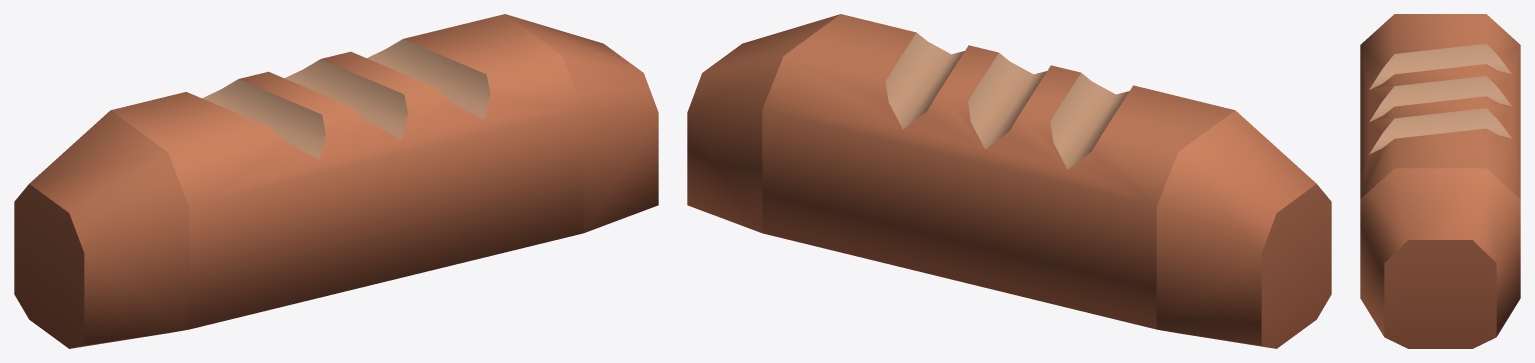
The model's file is loaf-baguette.glb.
3 views of the same model, side by side, from view 1: azimuth 30°, elevation 25°; view 2: azimuth 150°, elevation 25°; view 3: azimuth 270°, elevation 25° (orthographic). The views are drawn at different scales.
Visible parts, largest first — view 1: loaf-baguette; view 2: loaf-baguette; view 3: loaf-baguette.
Part boxes in pixels (bbox=[...]): loaf-baguette: bbox=[14, 14, 658, 348]; loaf-baguette: bbox=[687, 14, 1331, 348]; loaf-baguette: bbox=[1360, 14, 1520, 348].
Size of the model in its own units: 0.83 by 0.25 by 0.25.
